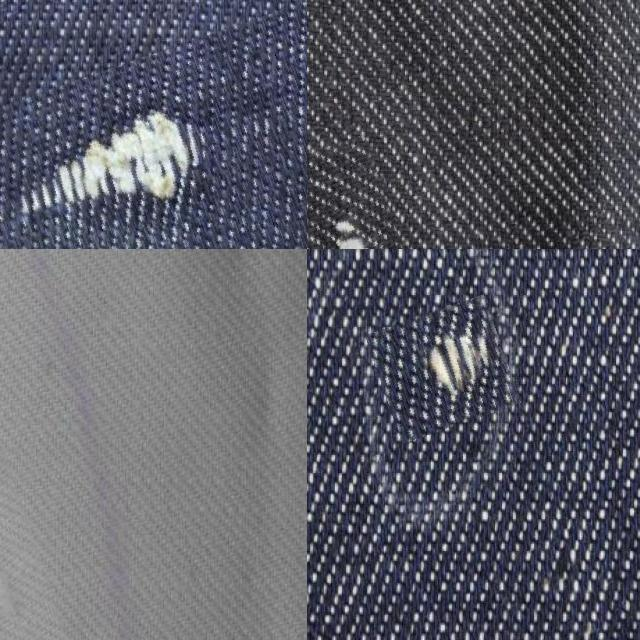Thread_other: (0, 32, 307, 249), (373, 302, 513, 434), (0, 367, 49, 640), (307, 141, 409, 249)
